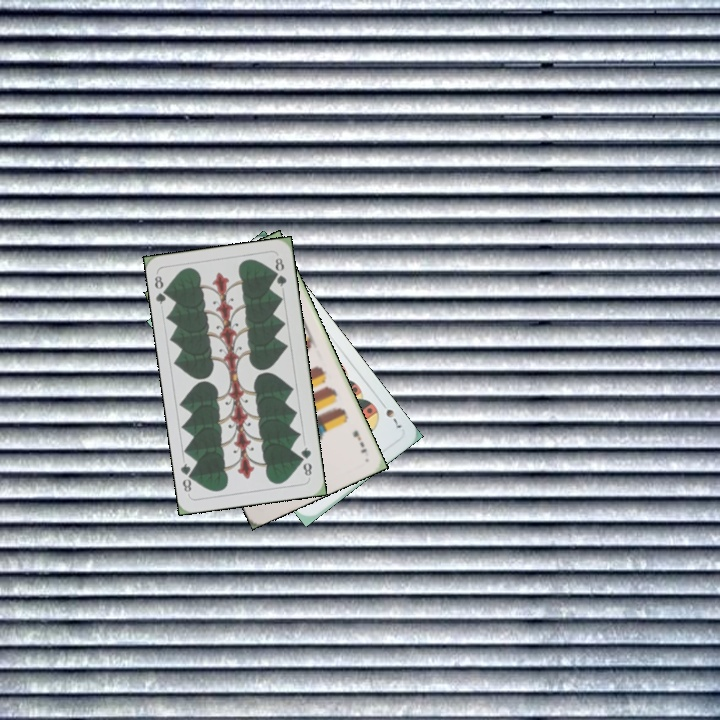E7: (349, 426, 369, 456)
G8: (150, 272, 172, 307), (296, 443, 315, 479)
S7: (376, 397, 405, 431)
